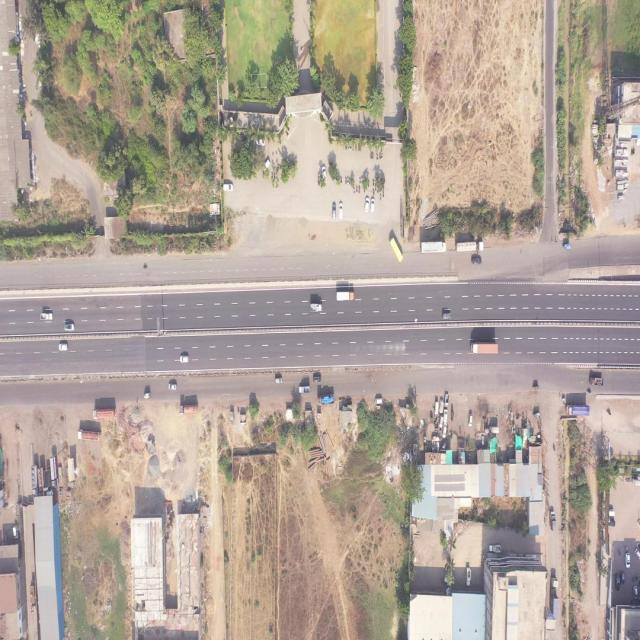3W: (563, 243, 572, 250), (144, 392, 151, 400), (533, 384, 540, 391), (534, 411, 541, 418)
Cars: (615, 574, 620, 592), (180, 355, 189, 364), (224, 184, 234, 192), (625, 553, 630, 569), (434, 400, 439, 415), (442, 424, 447, 439), (633, 585, 638, 600), (365, 195, 369, 213), (169, 383, 178, 391), (443, 311, 451, 320), (634, 548, 640, 560), (472, 257, 482, 264), (13, 526, 18, 540), (443, 409, 448, 423), (332, 203, 336, 220), (322, 167, 327, 180), (59, 344, 68, 351), (313, 376, 322, 383), (468, 412, 472, 427), (621, 571, 625, 586), (275, 377, 283, 384), (375, 398, 383, 405), (340, 202, 343, 219), (371, 198, 374, 214)
LCV: (310, 303, 323, 312), (489, 544, 501, 553), (551, 511, 556, 531), (41, 314, 54, 321), (444, 393, 450, 407), (298, 387, 311, 393), (490, 426, 500, 433), (65, 325, 75, 331)
M2W: (142, 264, 149, 270), (379, 190, 382, 201), (618, 549, 622, 557), (630, 150, 635, 156), (608, 410, 612, 416), (373, 177, 375, 187), (383, 189, 385, 199), (345, 176, 347, 185), (347, 175, 349, 184), (353, 186, 355, 195), (356, 185, 358, 194), (359, 185, 361, 194), (376, 152, 378, 161), (381, 150, 383, 159), (286, 126, 289, 132), (553, 445, 556, 451), (340, 176, 342, 184), (373, 188, 375, 196), (371, 152, 373, 160), (359, 176, 361, 184), (271, 172, 273, 178), (372, 150, 373, 159)
MAV: (456, 241, 484, 252), (551, 577, 558, 620), (421, 241, 446, 253), (471, 343, 498, 354), (78, 429, 100, 442), (50, 457, 58, 488), (31, 465, 38, 496), (93, 409, 115, 418), (179, 404, 198, 414)
Truck: (566, 404, 590, 416), (317, 395, 334, 406), (336, 292, 355, 301), (591, 376, 604, 385)
